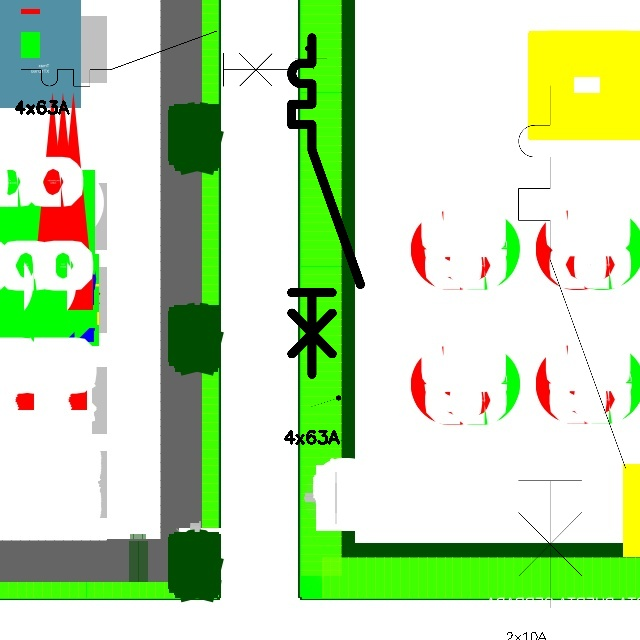interruptor_termomagnetico: (505, 72, 639, 621), (283, 29, 369, 383), (14, 24, 296, 93)
